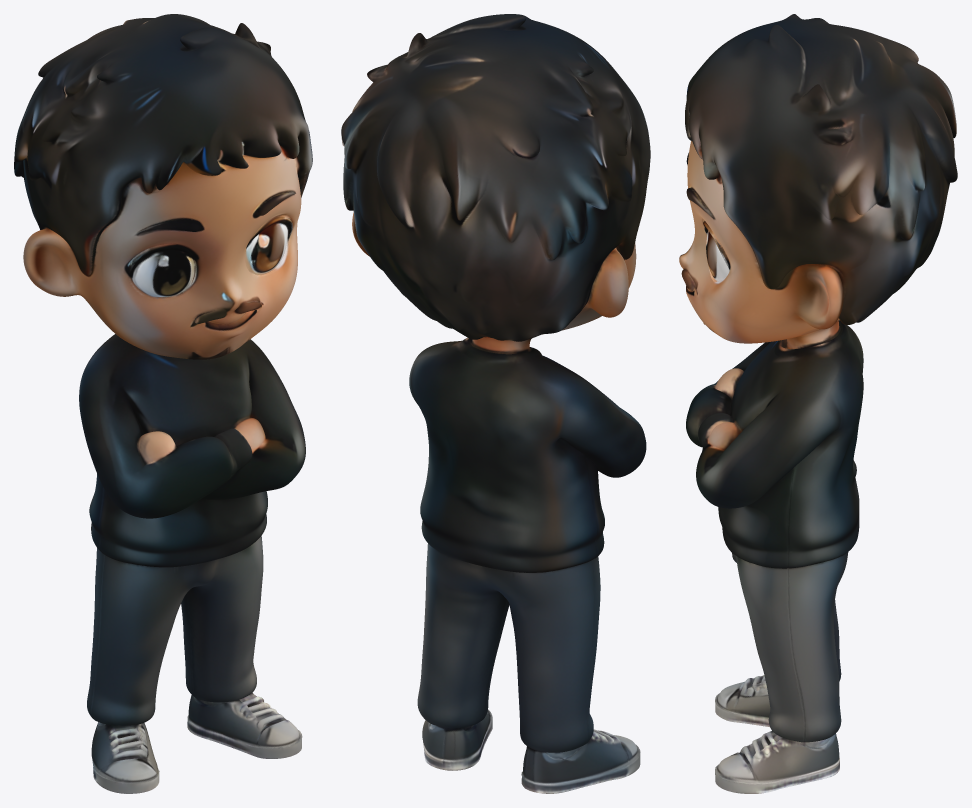
The model's file is character.glb.
The picture shows the model from 3 angles, left to right: view 1: azimuth 30°, elevation 25°; view 2: azimuth 150°, elevation 25°; view 3: azimuth 270°, elevation 25°; orthographic projection. The views are drawn at different scales.
Visible parts, largest first — view 1: Head, Body; view 2: Head, Body; view 3: Head, Body.
Boxes of the visible parts, box(x1,y1,x2,y2) form: Head: box(14, 14, 312, 359); Body: box(79, 334, 305, 793); Head: box(341, 14, 650, 358); Body: box(409, 337, 646, 793); Head: box(679, 14, 957, 349); Body: box(686, 324, 863, 793).
Bounding box in the file's own units: 0.6793 × 1.76 × 0.6151.
1 material, 1 textured.
